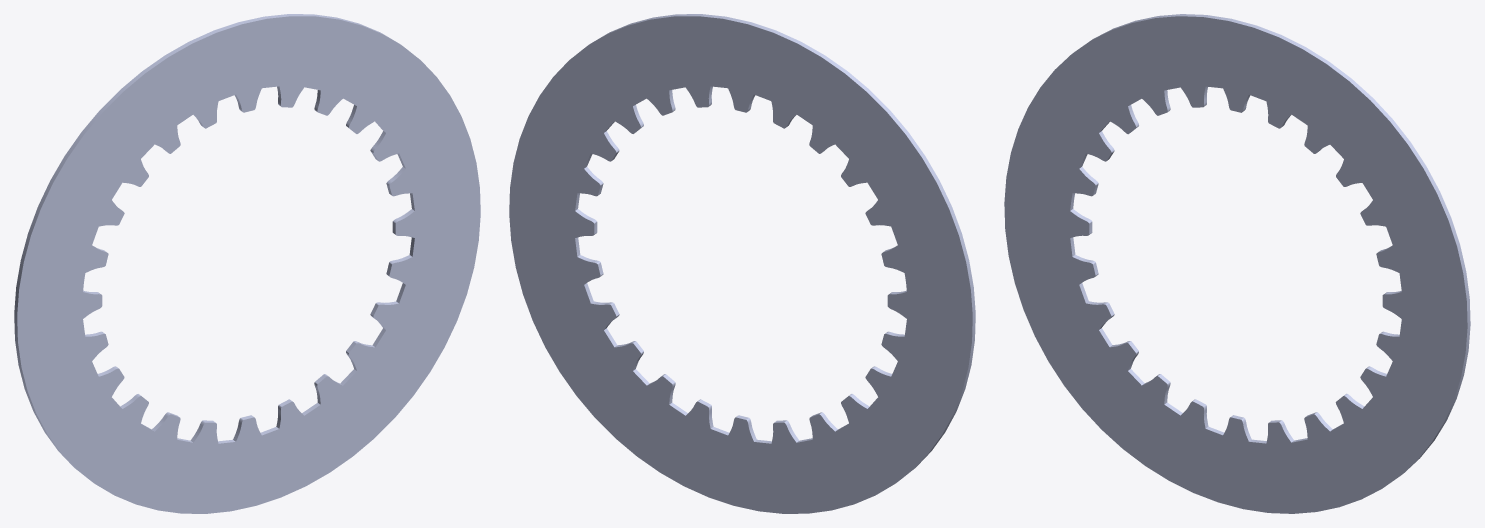
Rendered from REV_21_2102_A01_1_REV_21_2102_P03_1_solid1.obj.
3 views of the same model, side by side, from view 1: azimuth 30°, elevation 25°; view 2: azimuth 150°, elevation 25°; view 3: azimuth 330°, elevation 25° (orthographic).
Visible parts, largest first — view 1: mesh21756, mesh21755, mesh21754; view 2: mesh21757, mesh21755, mesh21754; view 3: mesh21756, mesh21755.
Boxes of the visible parts, box(x1,y1,x2,y2) form: mesh21756: box(17, 16, 480, 513); mesh21755: box(16, 14, 400, 288); mesh21754: box(14, 287, 89, 479); mesh21757: box(509, 16, 972, 513); mesh21755: box(589, 14, 973, 288); mesh21754: box(900, 287, 975, 479); mesh21756: box(1004, 16, 1467, 513); mesh21755: box(1091, 14, 1470, 352).
Size of the model in its own units: 0.0225 by 0.0225 by 0.00025.
